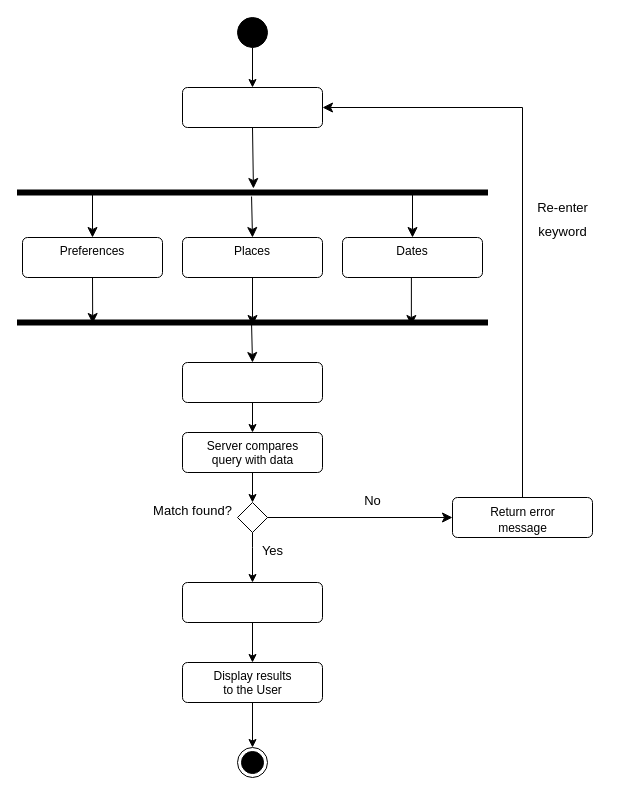
Some shapes in this 630 by 795 pixel diagram are drawn without their labels. The shapes that lost their labels are listed below. From the top down, each one's box as (x1, y1, x2, y2) in pixels, then its label:
(182, 86, 322, 128): User Enters Keywords
(182, 362, 322, 402): Connect to Server
(182, 582, 322, 622): Return matched Results
